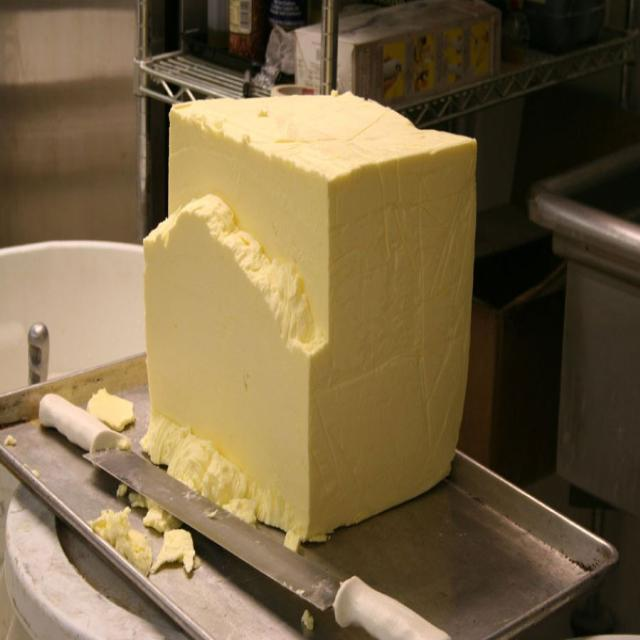Butter: (149, 90, 474, 538)
